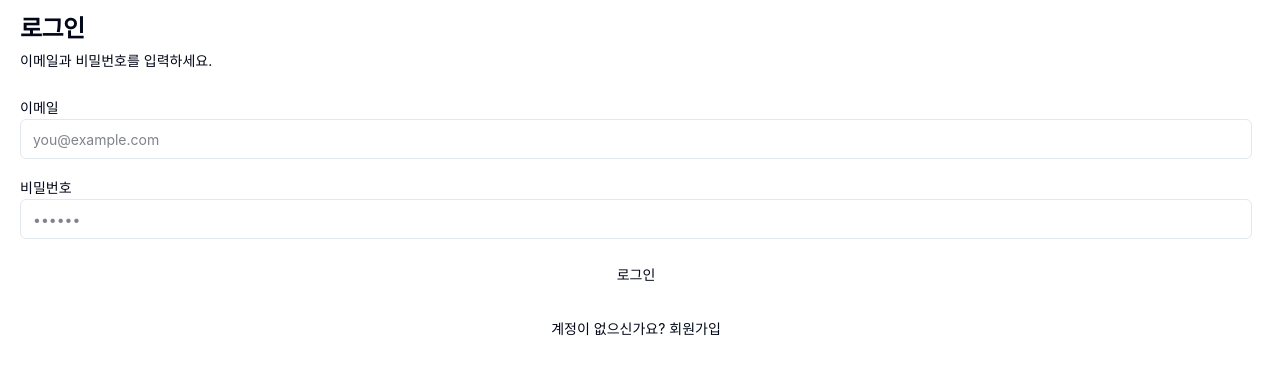
it: LoginPage › form validation › shows error when password is too short (less than 6 chars)
Type "test@example.com" into the field with placeholder "you@example.com". click: (636, 139)
box: x1=20 y1=119 x2=1252 y2=159
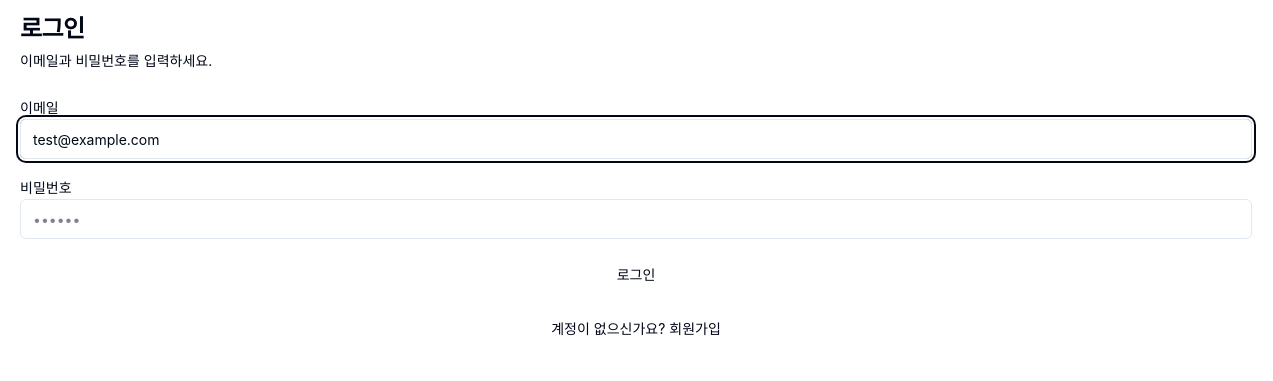
Type "123" into the password field with placeholder "••••••". click: (636, 219)
box: x1=20 y1=199 x2=1252 y2=239
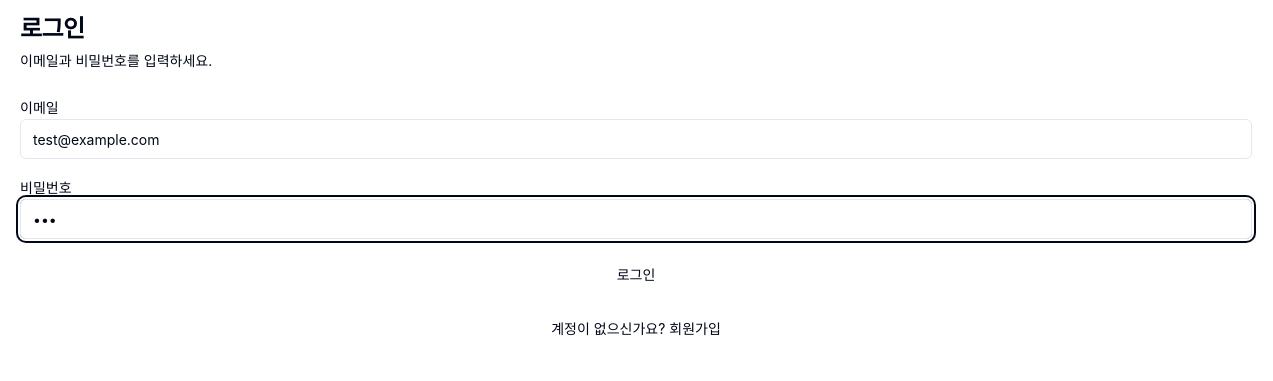
Click the button "로그인". click: (636, 275)
box: x1=20 y1=255 x2=1252 y2=295
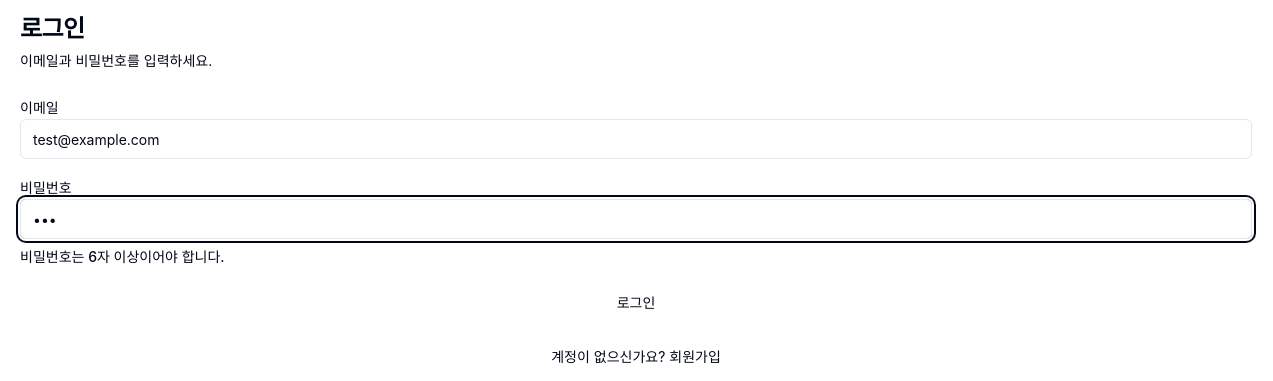
Check: the text "비밀번호는 6자 이상이어야 합니다." is shown, box x1=20 y1=248 x2=225 y2=265
